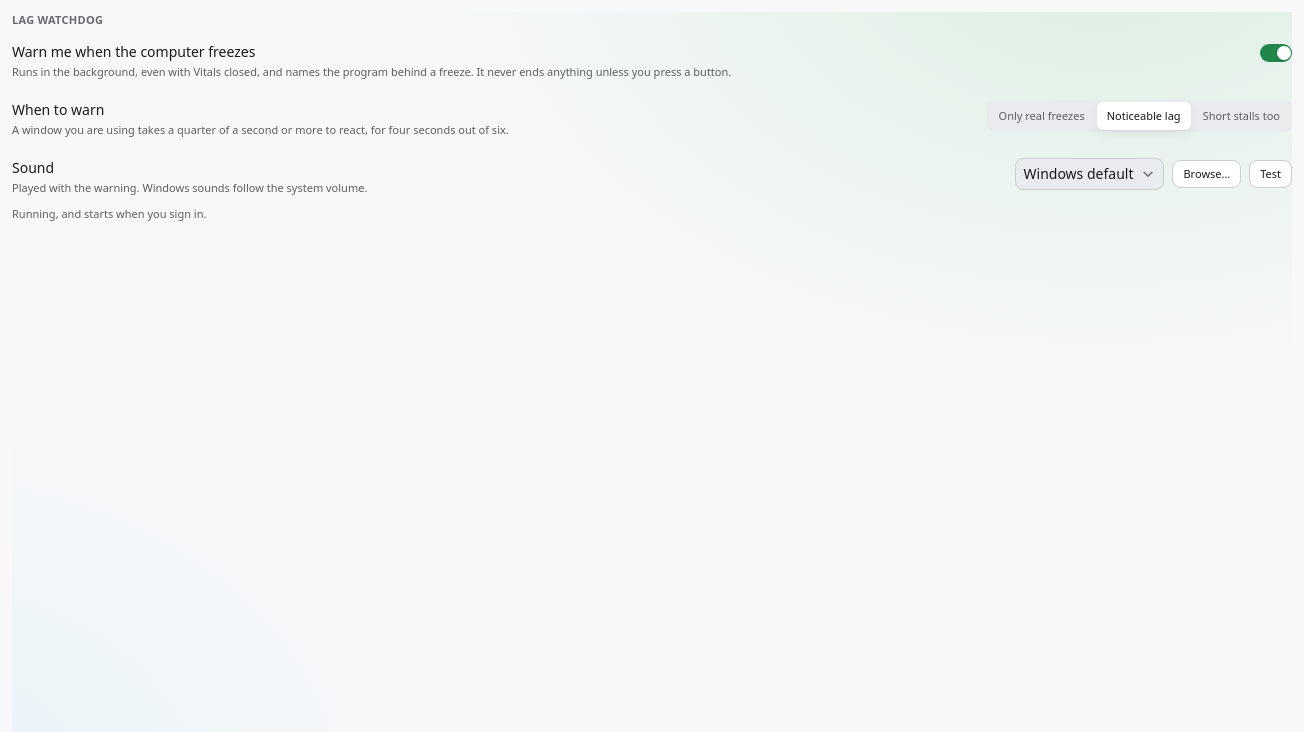
Test: WatchdogPanel › saves the switch through the backend and shows what the backend then reports
This screenshot has width=1304, height=732.
Expected: the text "Running, and starts when you sign in." is shown, [12,206,206,221]
Click the switch.
click(1276, 53)  # box [1260,44,1292,62]
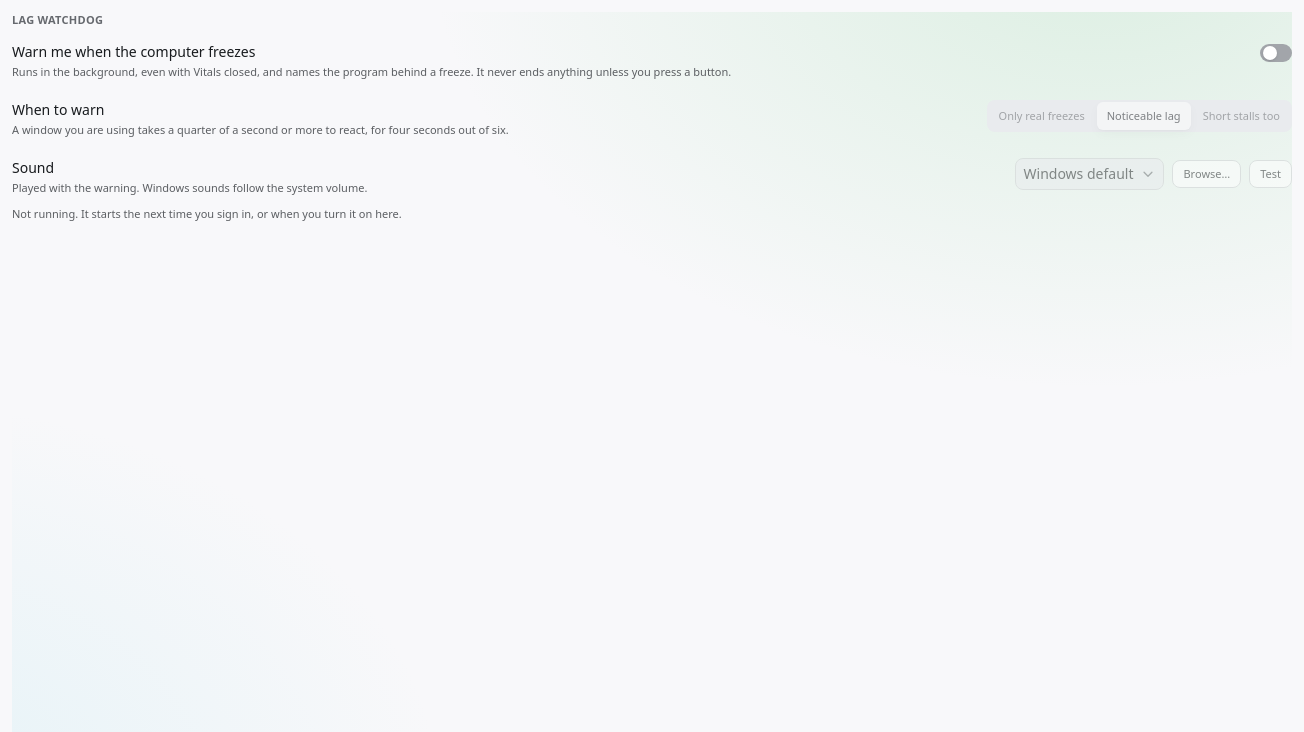
Result: the text "Not running. It starts the next time you sign in, or when you turn it on here." is shown at [12,206,402,221]
